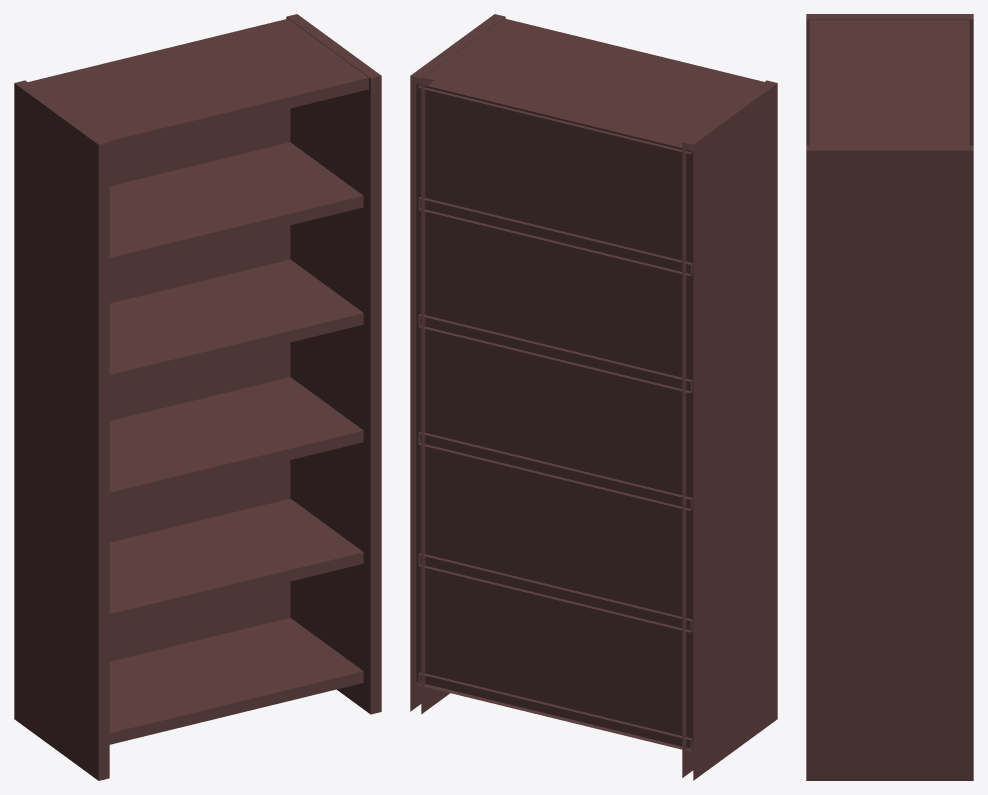
File: shelves4.obj
The picture shows the model from 3 angles, left to right: view 1: azimuth 30°, elevation 25°; view 2: azimuth 150°, elevation 25°; view 3: azimuth 270°, elevation 25°; orthographic projection.
Visible parts, largest first — view 1: shelves4; view 2: shelves4; view 3: shelves4.
Boxes of the visible parts, <box> form: shelves4: <box>14,14,381,780</box>; shelves4: <box>410,14,777,780</box>; shelves4: <box>806,14,973,780</box>.
Bounding box in the file's own units: 0.8572 × 1.84 × 0.4432.
